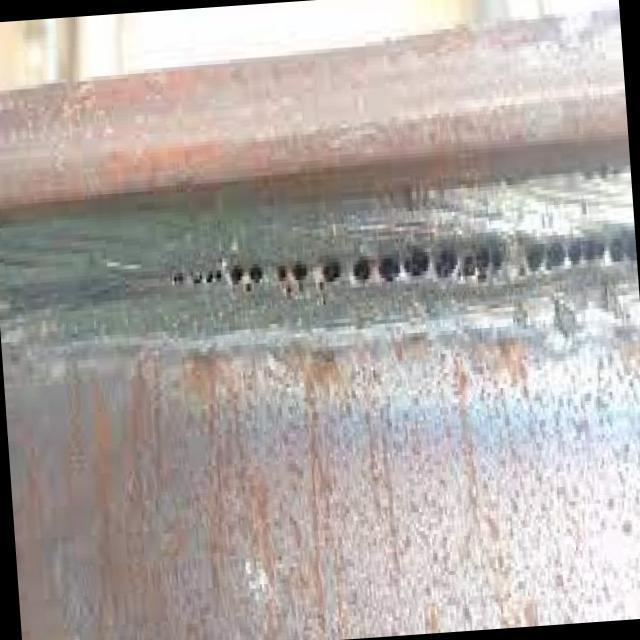defect: (275, 224, 634, 294), (165, 260, 269, 296)
